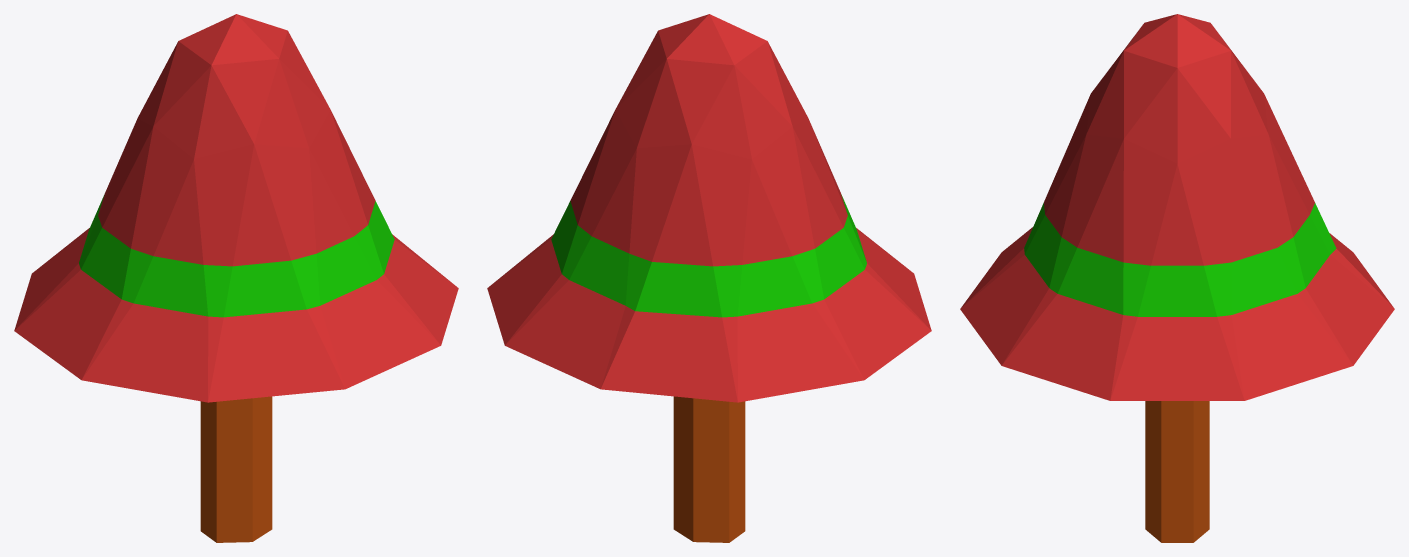
Rendered from shroom6.fbx.
The picture shows the model from 3 angles, left to right: view 1: azimuth 30°, elevation 25°; view 2: azimuth 150°, elevation 25°; view 3: azimuth 270°, elevation 25°; orthographic projection.
Visible parts, largest first — view 1: Cylinder; view 2: Cylinder; view 3: Cylinder.
Boxes of the visible parts, <box> form: Cylinder: <box>14,14,458,542</box>; Cylinder: <box>487,14,931,542</box>; Cylinder: <box>960,14,1394,542</box>.
Size of the model in its own units: 406 by 531 by 406.
